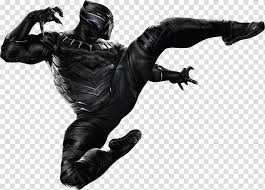Object-Detection: (2, 1, 265, 190)
